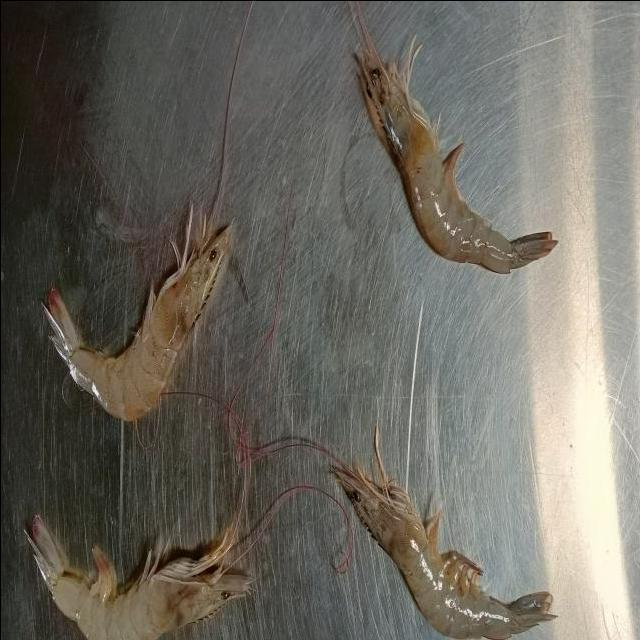shrimp: (355, 5, 555, 273), (334, 432, 554, 640), (45, 213, 231, 421), (29, 514, 249, 640)
